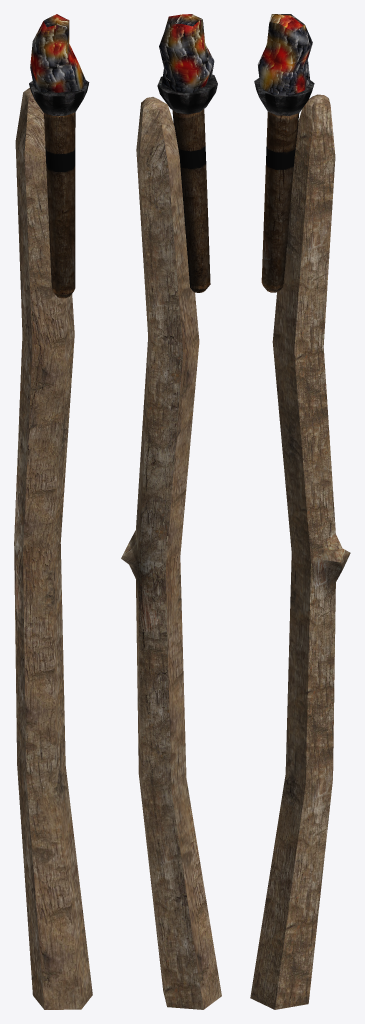
The model's file is torch_01_LOD.fbx.
The picture shows the model from 3 angles, left to right: view 1: azimuth 90°, elevation 25°; view 2: azimuth 150°, elevation 25°; view 3: azimuth 330°, elevation 25°; orthographic projection.
Parts seen in each view (by area): view 1: Mesh Object; view 2: Mesh Object; view 3: Mesh Object.
Boxes of the visible parts, box(x1,y1,x2,y2) form: Mesh Object: box(14, 14, 92, 1009); Mesh Object: box(121, 14, 221, 1009); Mesh Object: box(250, 14, 350, 1009).
Bounding box in the file's own units: 0.138 × 1.73 × 0.1259.
